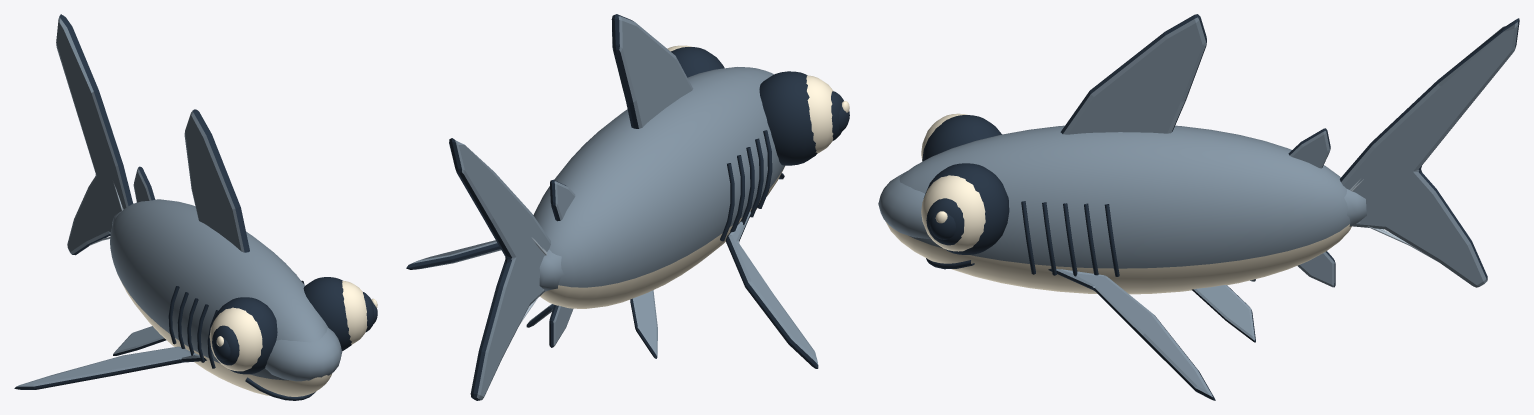
The model's file is shark.glb.
3 views of the same model, side by side, from view 1: azimuth 30°, elevation 25°; view 2: azimuth 150°, elevation 25°; view 3: azimuth 270°, elevation 25° (orthographic). The views are drawn at different scales.
Visible parts, largest first — view 1: BodyMesh, TailMesh, PectoralMesh; view 2: BodyMesh, TailMesh, PectoralMesh, PectoralMesh.001; view 3: BodyMesh, TailMesh, PectoralMesh.001.
Part boxes in pixels (<box>): BodyMesh: <box>110,109,377,400</box>; TailMesh: <box>56,14,133,255</box>; PectoralMesh: <box>14,346,206,389</box>; BodyMesh: <box>526,14,849,358</box>; TailMesh: <box>449,138,564,400</box>; PectoralMesh: <box>726,211,818,368</box>; PectoralMesh.001: <box>406,240,501,269</box>; BodyMesh: <box>878,14,1351,342</box>; TailMesh: <box>1340,18,1519,287</box>; PectoralMesh.001: <box>1048,268,1215,400</box>.
Size of the model in its own units: 2.12 by 1.51 by 2.92.
